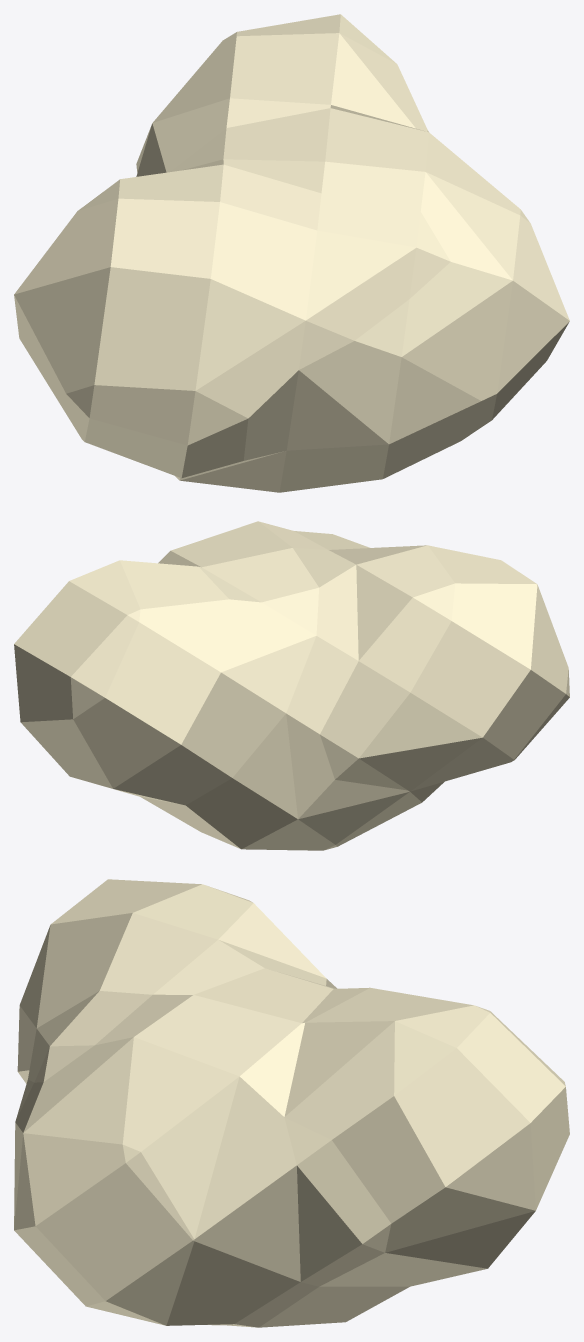
Rendered from Wolken.dae.
3 renders of one model, top to bottom at view 1: azimuth 30°, elevation 25°; view 2: azimuth 150°, elevation 25°; view 3: azimuth 270°, elevation 25°, orthographic. The views are drawn at different scales.
Parts seen in each view (by area): view 1: Metaball; view 2: Metaball; view 3: Metaball.
Boxes of the visible parts, left/top/right/bottom form: Metaball: left=14, top=14, right=569, bottom=492; Metaball: left=14, top=521, right=569, bottom=850; Metaball: left=14, top=879, right=569, bottom=1327.
Size of the model in its own units: 52.23 by 34.9 by 48.44.
